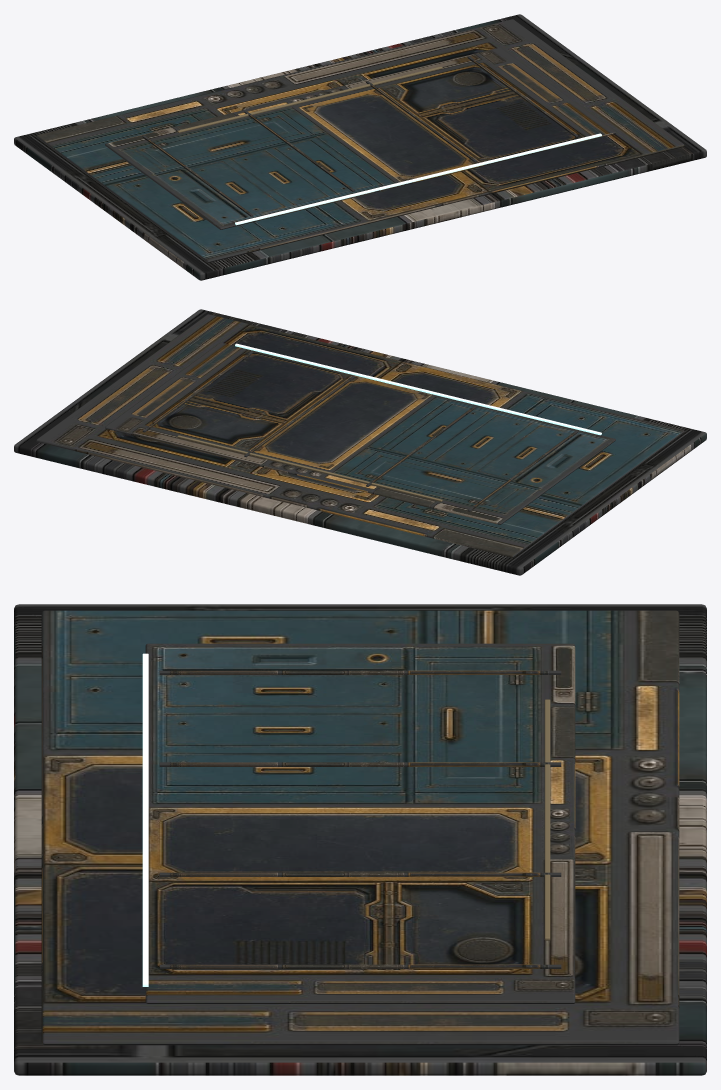
Rendered from hp_room_residential_rug_panel.glb.
The picture shows the model from 3 angles, top to bottom: view 1: azimuth 30°, elevation 25°; view 2: azimuth 150°, elevation 25°; view 3: azimuth 270°, elevation 25°; orthographic projection. The views are drawn at different scales.
Visible parts, largest first — view 1: inner_reflective_plate, dark_recessed_outer_border, single_low_floor_panel, front_cyan_floor_line, rear_warm_floor_line, subtle_panel_rib_0, subtle_panel_rib_3, subtle_panel_rib_1, subtle_panel_rib_2; view 2: inner_reflective_plate, dark_recessed_outer_border, single_low_floor_panel, front_cyan_floor_line, rear_warm_floor_line, subtle_panel_rib_0, subtle_panel_rib_3, subtle_panel_rib_1, subtle_panel_rib_2; view 3: inner_reflective_plate, dark_recessed_outer_border, single_low_floor_panel, front_cyan_floor_line, subtle_panel_rib_0, subtle_panel_rib_3, subtle_panel_rib_1, subtle_panel_rib_2, rear_warm_floor_line.
Boxes of the visible parts, x1=… form: inner_reflective_plate: x1=105, y1=47, x2=615, y2=229; dark_recessed_outer_border: x1=36, y1=19, x2=684, y2=262; single_low_floor_panel: x1=14, y1=14, x2=706, y2=280; front_cyan_floor_line: x1=235, y1=133, x2=601, y2=225; rear_warm_floor_line: x1=177, y1=66, x2=442, y2=132; subtle_panel_rib_0: x1=142, y1=135, x2=253, y2=216; subtle_panel_rib_3: x1=467, y1=56, x2=578, y2=137; subtle_panel_rib_1: x1=244, y1=111, x2=354, y2=191; subtle_panel_rib_2: x1=366, y1=81, x2=476, y2=162; inner_reflective_plate: x1=105, y1=342, x2=615, y2=524; dark_recessed_outer_border: x1=36, y1=314, x2=684, y2=557; single_low_floor_panel: x1=14, y1=309, x2=706, y2=575; front_cyan_floor_line: x1=235, y1=343, x2=601, y2=435; rear_warm_floor_line: x1=177, y1=435, x2=442, y2=501; subtle_panel_rib_0: x1=467, y1=430, x2=578, y2=511; subtle_panel_rib_3: x1=142, y1=351, x2=253, y2=432; subtle_panel_rib_1: x1=366, y1=406, x2=476, y2=486; subtle_panel_rib_2: x1=244, y1=376, x2=354, y2=457; inner_reflective_plate: x1=145, y1=643, x2=575, y2=1003; dark_recessed_outer_border: x1=41, y1=610, x2=679, y2=1045; single_low_floor_panel: x1=14, y1=604, x2=706, y2=1075; front_cyan_floor_line: x1=142, y1=653, x2=148, y2=986; subtle_panel_rib_0: x1=159, y1=670, x2=561, y2=674; subtle_panel_rib_3: x1=159, y1=964, x2=561, y2=968; subtle_panel_rib_1: x1=159, y1=762, x2=561, y2=766; subtle_panel_rib_2: x1=159, y1=872, x2=561, y2=876; rear_warm_floor_line: x1=544, y1=699, x2=550, y2=940.
Size of the model in its own units: 3.83 by 0.1139 by 2.45.
Materials: 5 (3 with a texture image).
